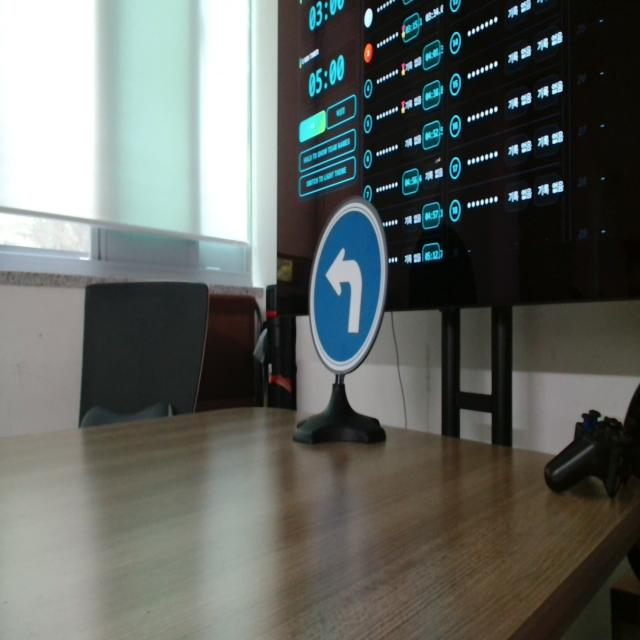left_direction: (305, 197, 399, 403)
